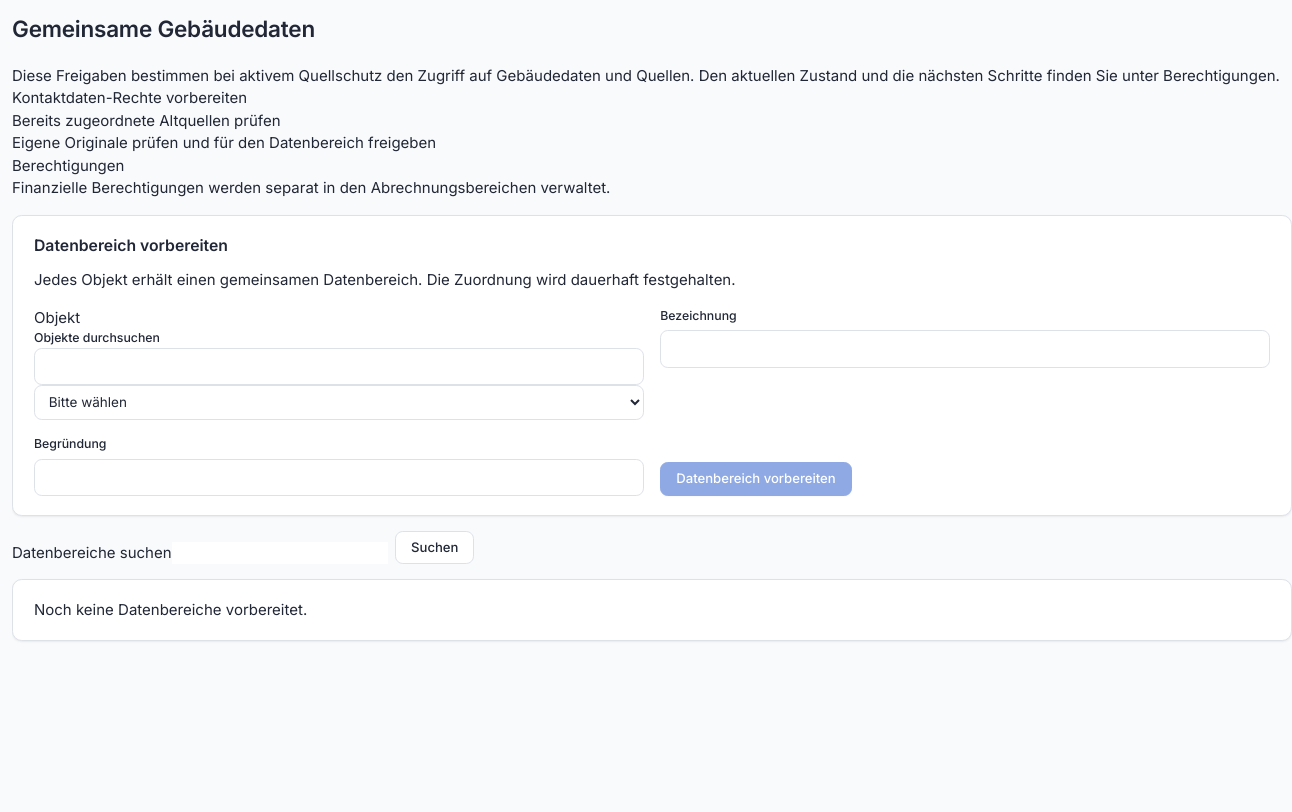
Scenario: retains the creation key after a lost response and explains when the grants restrict access
Check: the text "Diese Freigaben bestimmen bei aktivem Quellschutz" is shown, box top-left (12, 66), bottom-right (1280, 84)
Select "House" in the dropdown named "Objekt": (339, 402) top-left (34, 385), bottom-right (644, 420)
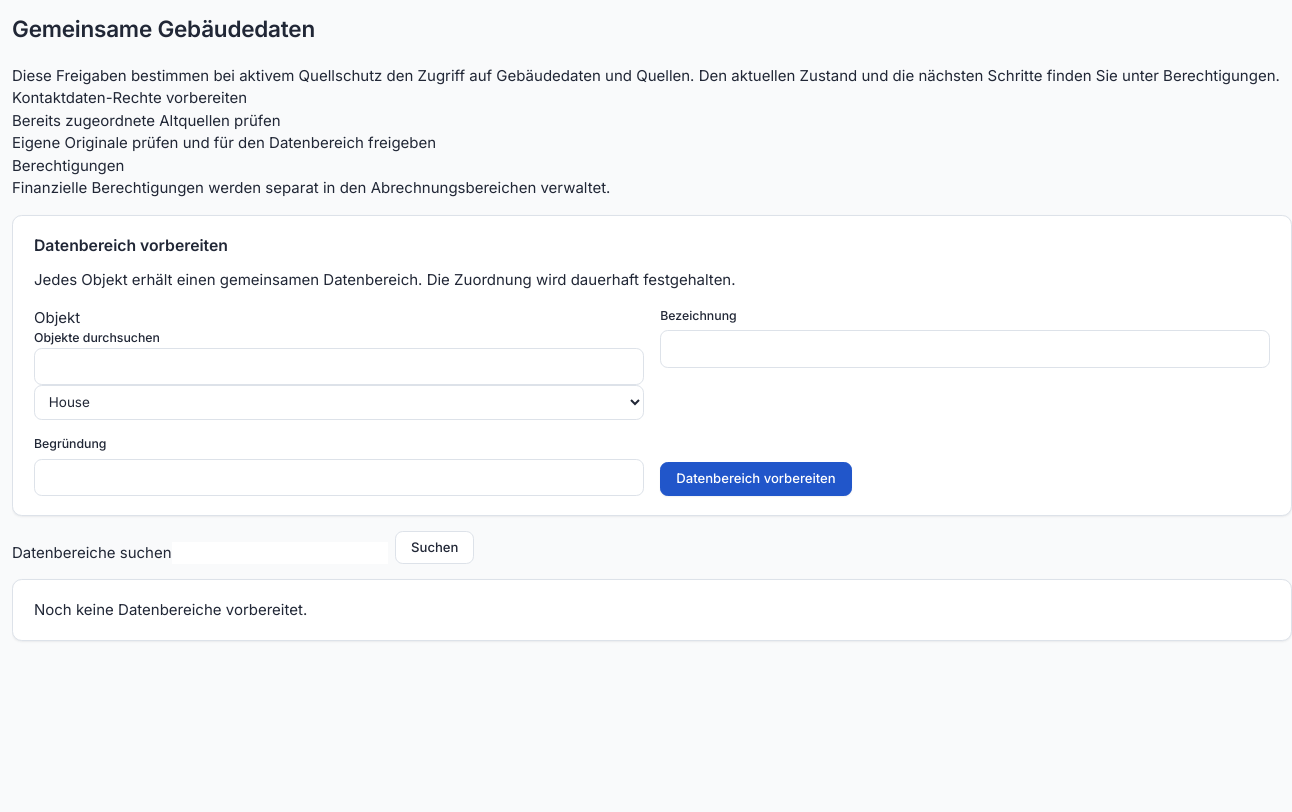
In the field labelled "Bezeichnung": (965, 349) top-left (660, 330), bottom-right (1270, 368), type "Shared house"
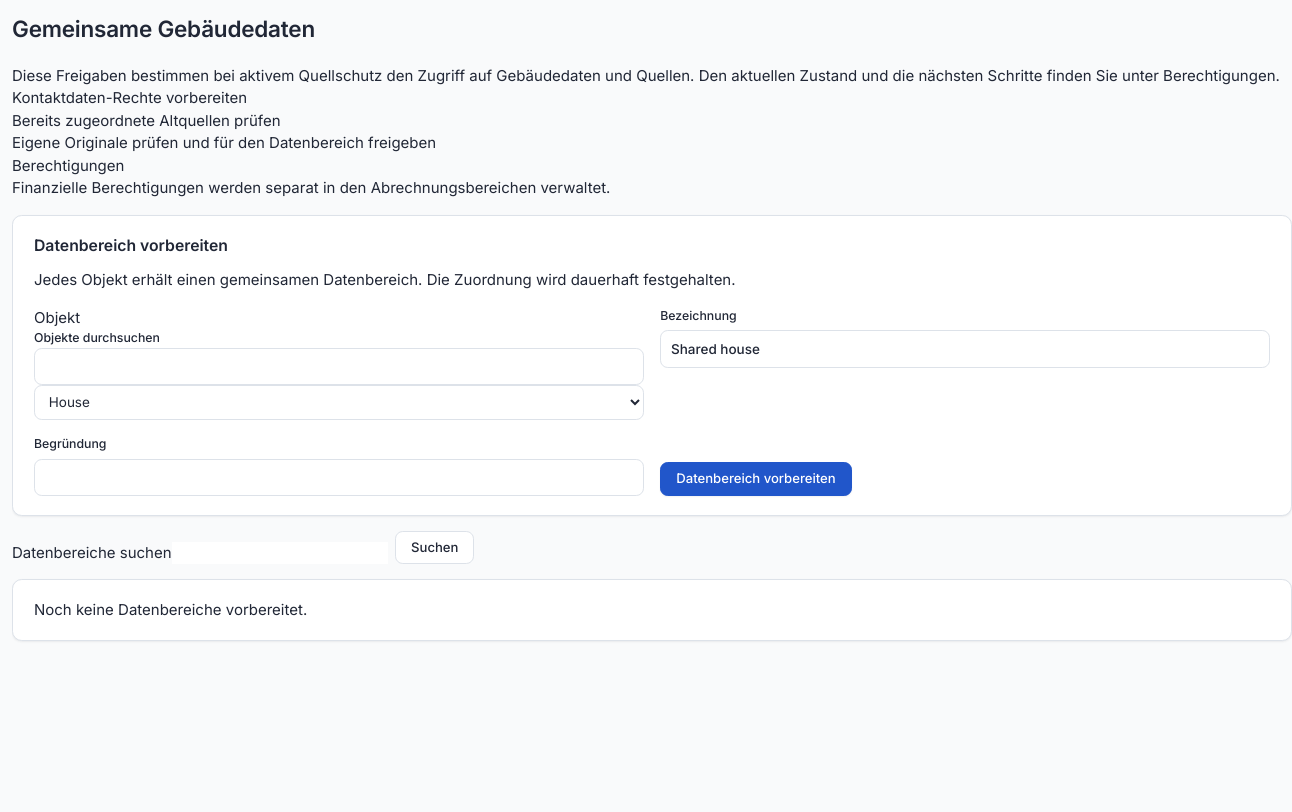
In the field labelled "Begründung": (339, 477) top-left (34, 458), bottom-right (644, 496), type "Reviewed audience"
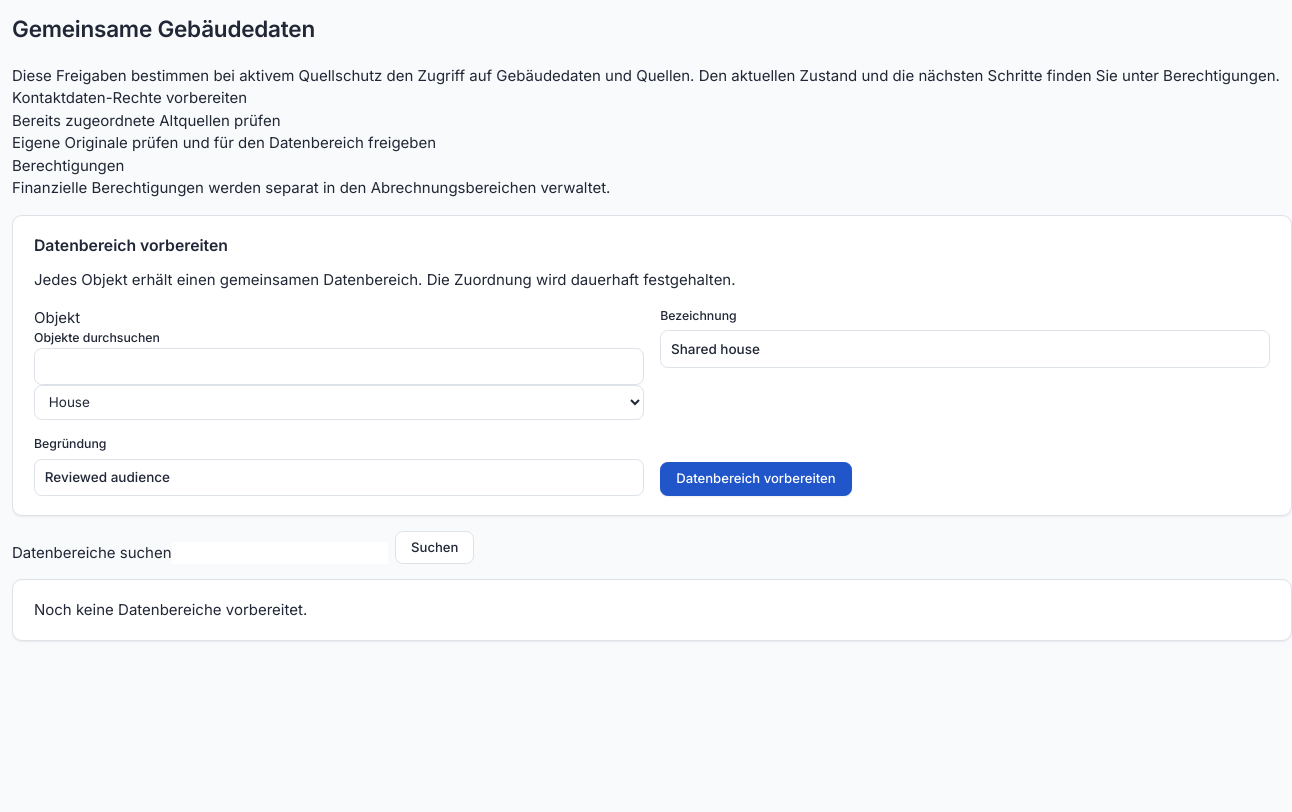
Click the button "Datenbereich vorbereiten": (756, 479) top-left (660, 462), bottom-right (852, 496)
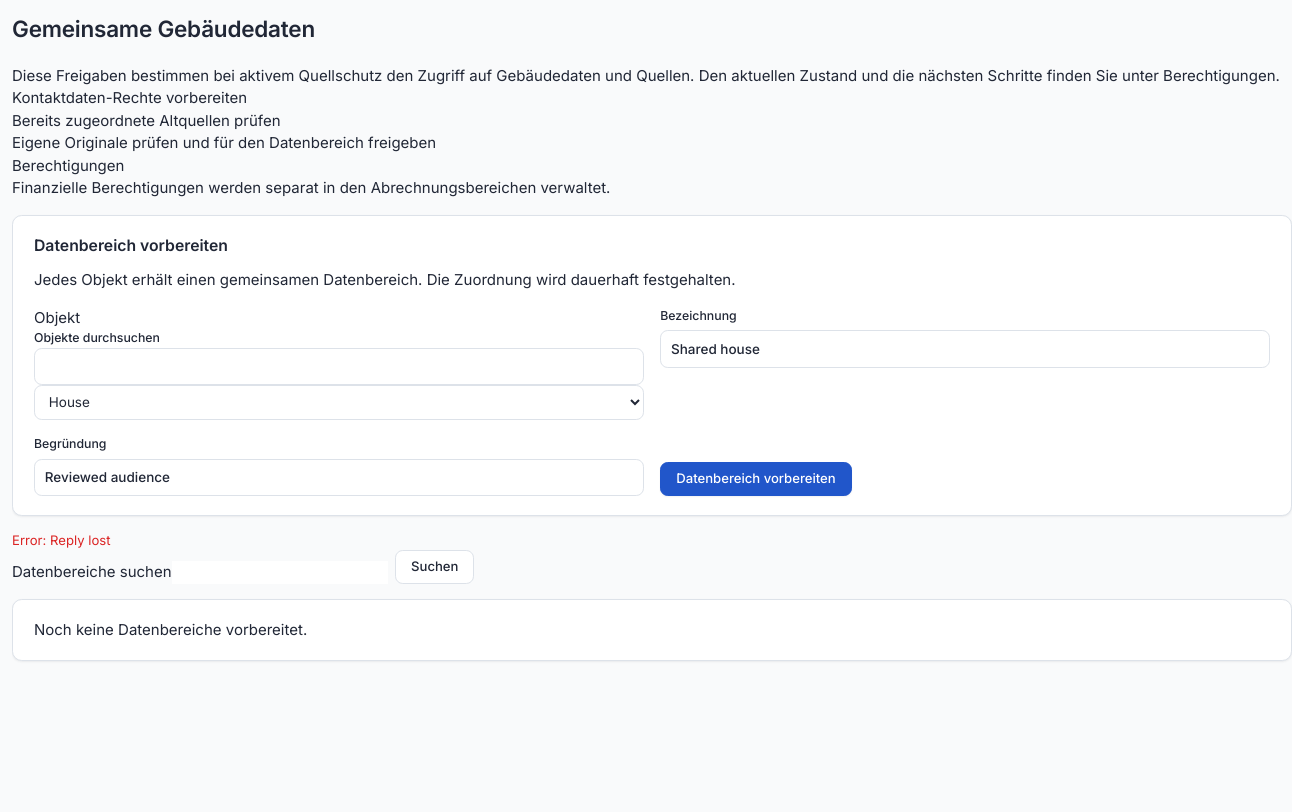
Check: the text "Error: Reply lost" is shown, box top-left (12, 532), bottom-right (110, 548)
Click the button "Datenbereich vorbereiten": (756, 479) top-left (660, 462), bottom-right (852, 496)
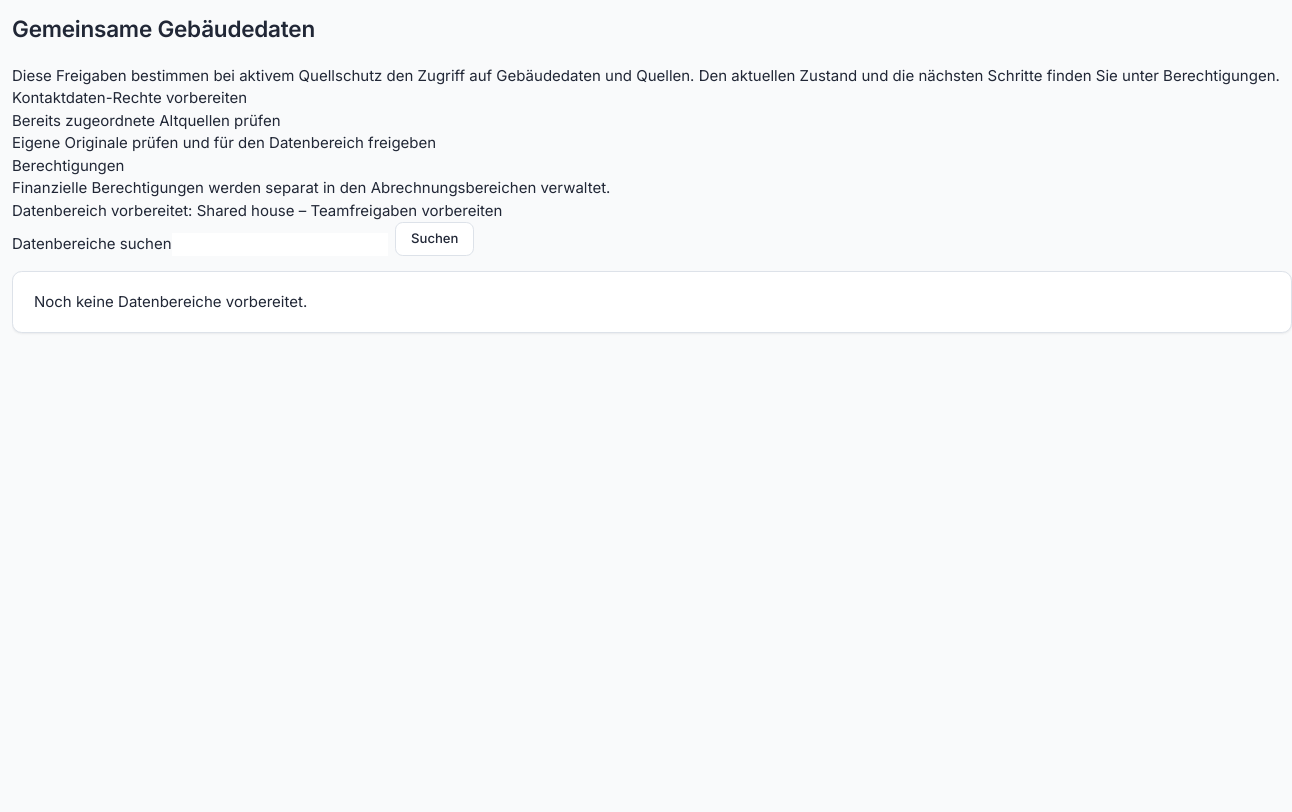
Check: the link "Shared house – Teamfreigaben vorbereiten" is shown, box top-left (197, 200), bottom-right (502, 220)
